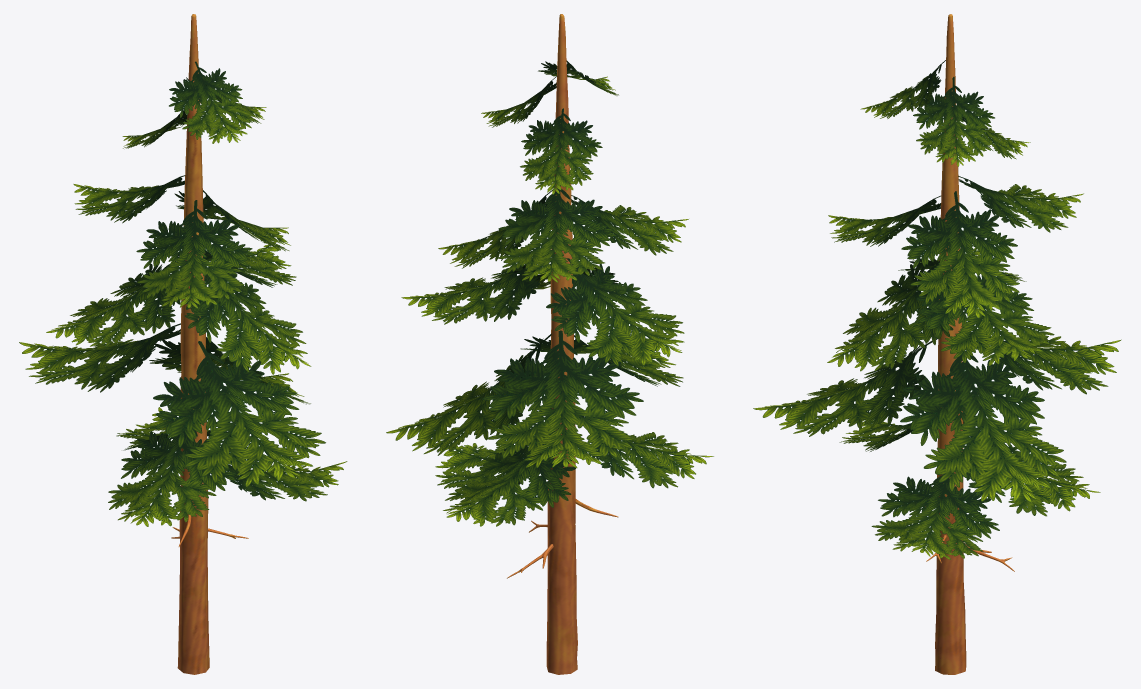
File: small_pine_var3.glb
3 renders of one model, left to right at view 1: azimuth 30°, elevation 25°; view 2: azimuth 150°, elevation 25°; view 3: azimuth 270°, elevation 25°, orthographic.
Parts seen in each view (by area): view 1: small_stylized_pine_var3_m_leaves_0, small_stylized_pine_var3_m_trunk_0; view 2: small_stylized_pine_var3_m_leaves_0, small_stylized_pine_var3_m_trunk_0; view 3: small_stylized_pine_var3_m_leaves_0, small_stylized_pine_var3_m_trunk_0.
Boxes of the visible parts, left/top/right/bottom form: small_stylized_pine_var3_m_leaves_0: left=19, top=61, right=347, bottom=526; small_stylized_pine_var3_m_trunk_0: left=171, top=14, right=248, bottom=674; small_stylized_pine_var3_m_leaves_0: left=386, top=60, right=713, bottom=526; small_stylized_pine_var3_m_trunk_0: left=507, top=14, right=618, bottom=674; small_stylized_pine_var3_m_leaves_0: left=753, top=60, right=1121, bottom=559; small_stylized_pine_var3_m_trunk_0: left=925, top=14, right=1014, bottom=674.
Bounding box in the file's own units: 3.19 × 7.08 × 3.72.
Materials: 2 (2 with a texture image).
